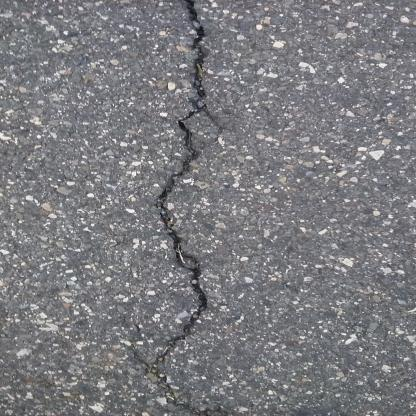Cracks: (123, 0, 232, 415)
